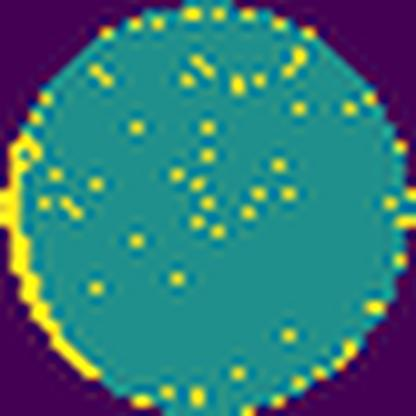Edge-Loc: (0, 138, 103, 382)
